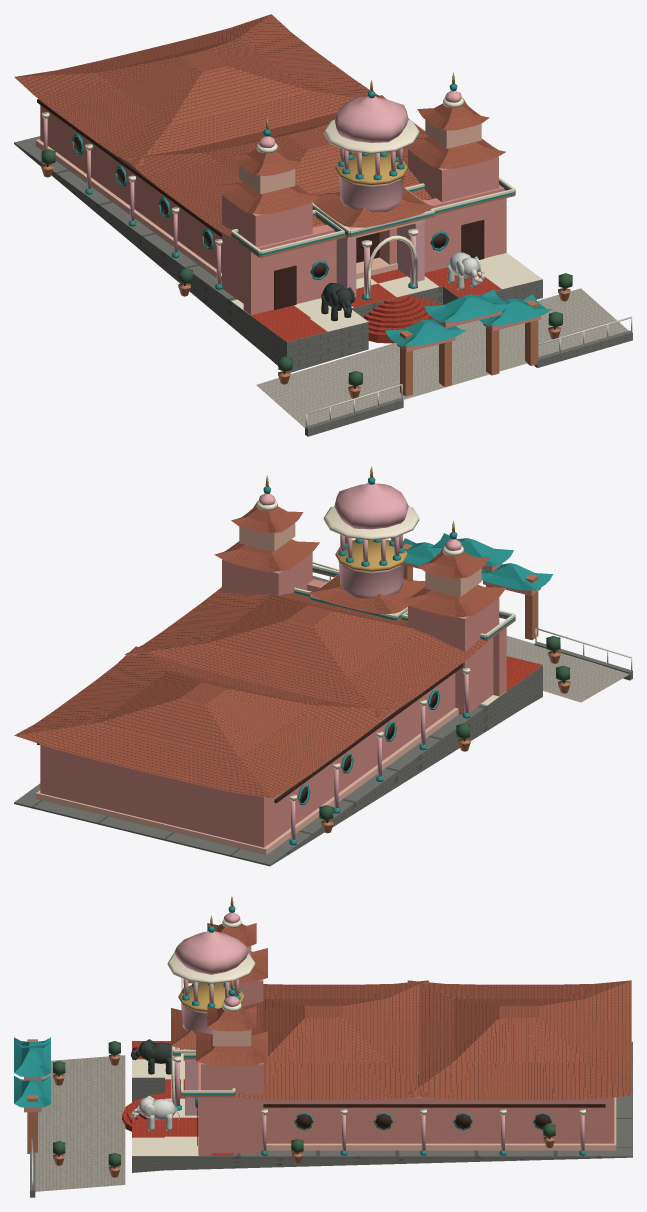
File: tay-an-mid.glb
3 views of the same model, one above another, from view 1: azimuth 30°, elevation 25°; view 2: azimuth 150°, elevation 25°; view 3: azimuth 270°, elevation 25° (orthographic). The views are drawn at different scales.
Visible parts, largest first — view 1: Tây An mid original exterior; view 2: Tây An mid original exterior; view 3: Tây An mid original exterior.
Part boxes in pixels (box(x1,y1,x2,y2)): Tây An mid original exterior: box(14, 14, 632, 436); Tây An mid original exterior: box(14, 466, 632, 866); Tây An mid original exterior: box(14, 896, 632, 1197).
Size of the model in its own units: 26.11 by 18.79 by 46.7.
Materials: 1 (1 with a texture image).
